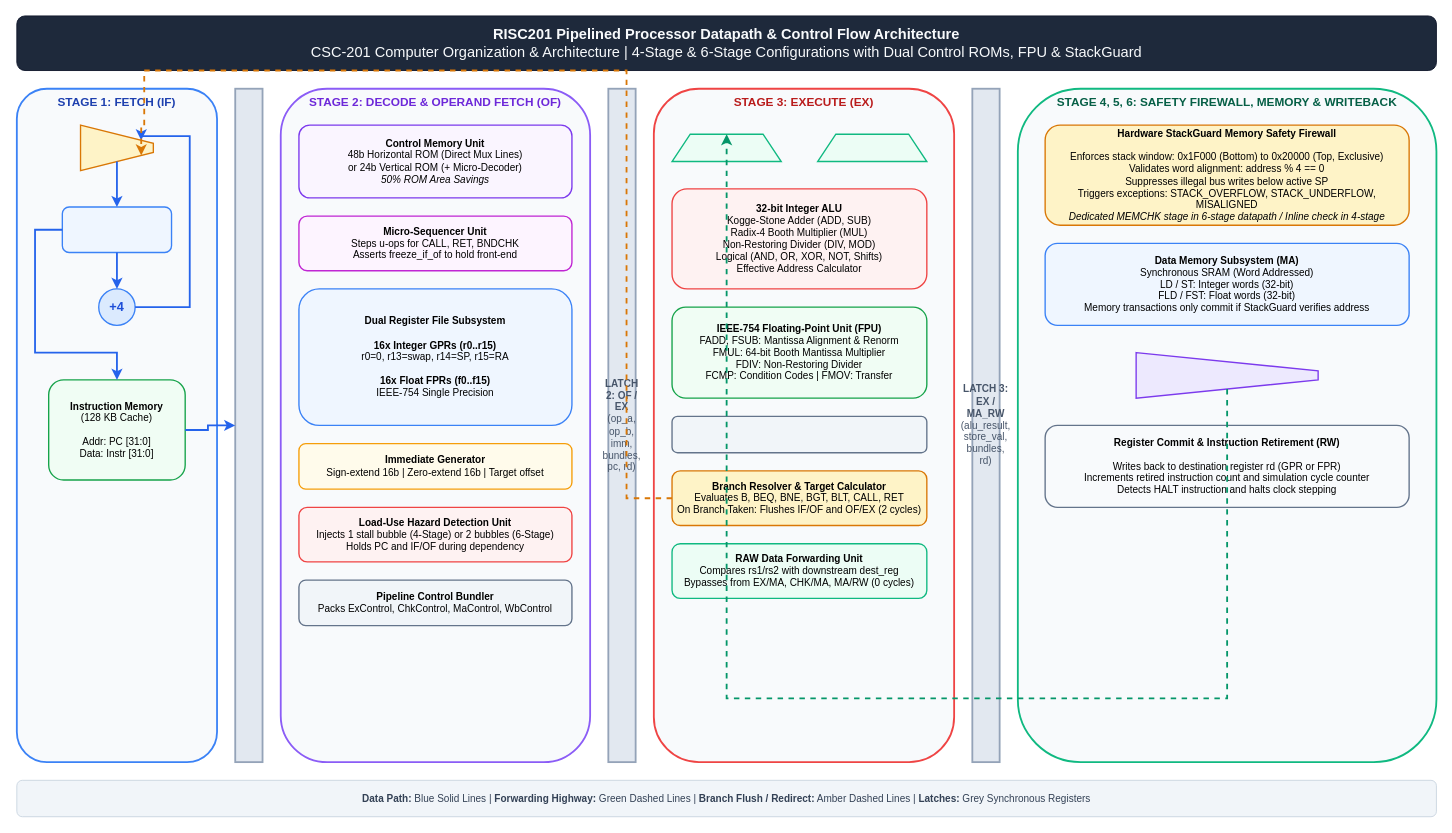
This 1452x833 diagram has some shape labels left out. Each missing label, with the centre of its shape:
"Condition Flags Register Z (Zero) | N (Negative) | C (Carry) | V (Overflow)" belongs at point 799,434.
"ForwardA MUX" belongs at point 726,147.
"ForwardB MUX" belongs at point 872,147.
"LATCH 1: IF / OF (pc, raw instruction)" belongs at point 248,425.
"Next PC MUX" belongs at point 116,147.
"Program Counter (PC, 32-bit)" belongs at point 116,229.
"Writeback Source MUX 0: ALU_OUT | 1: MEM_DATA | 2: PC+4 | 3: FPU_OUT" belongs at point 1226,375.
